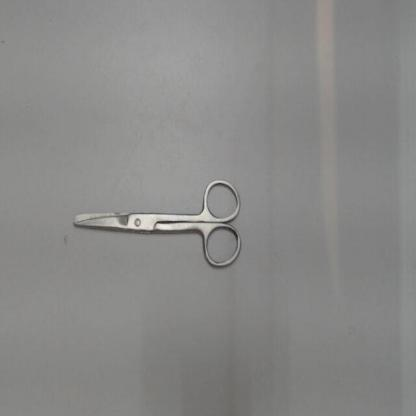Dressing Scissors: (63, 171, 250, 280)
